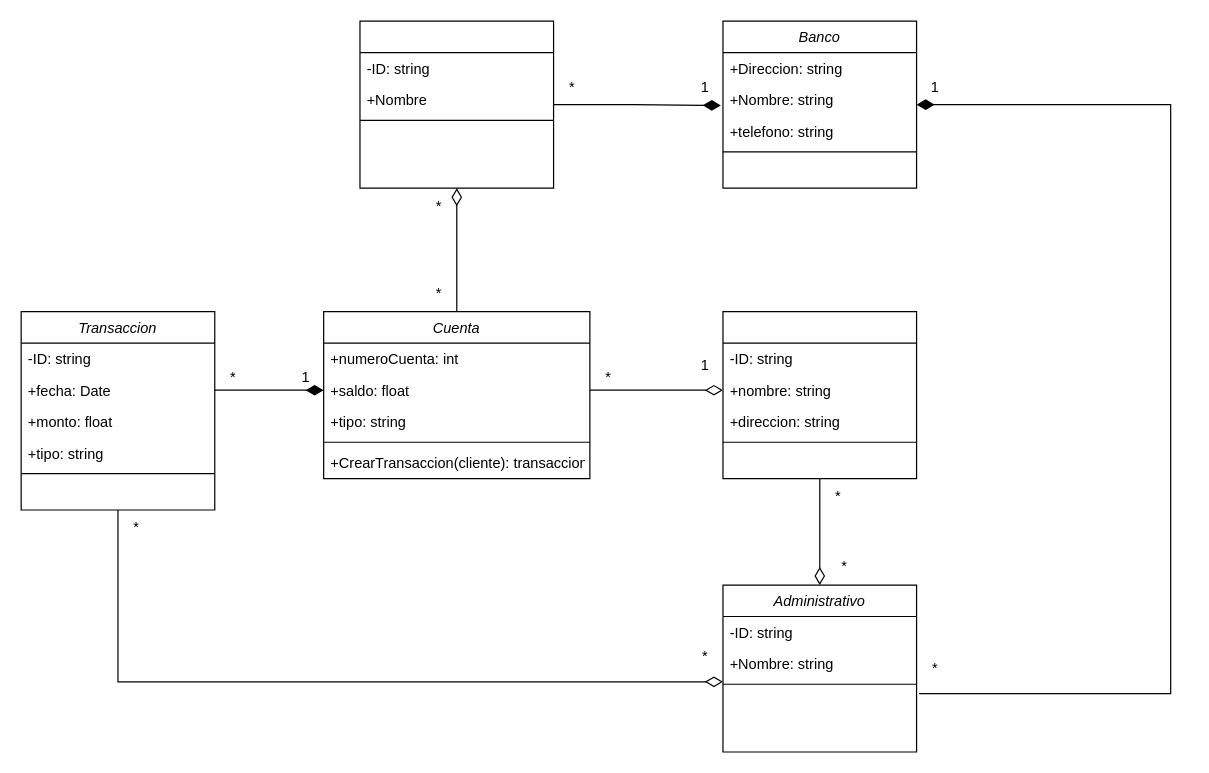
This 1209x773 diagram has some shape labels left out. Here are the shapes that lost their labels. From the top down, the box of each, then its label:
(359, 20, 554, 188): Departamento
(722, 310, 917, 479): Cliente
